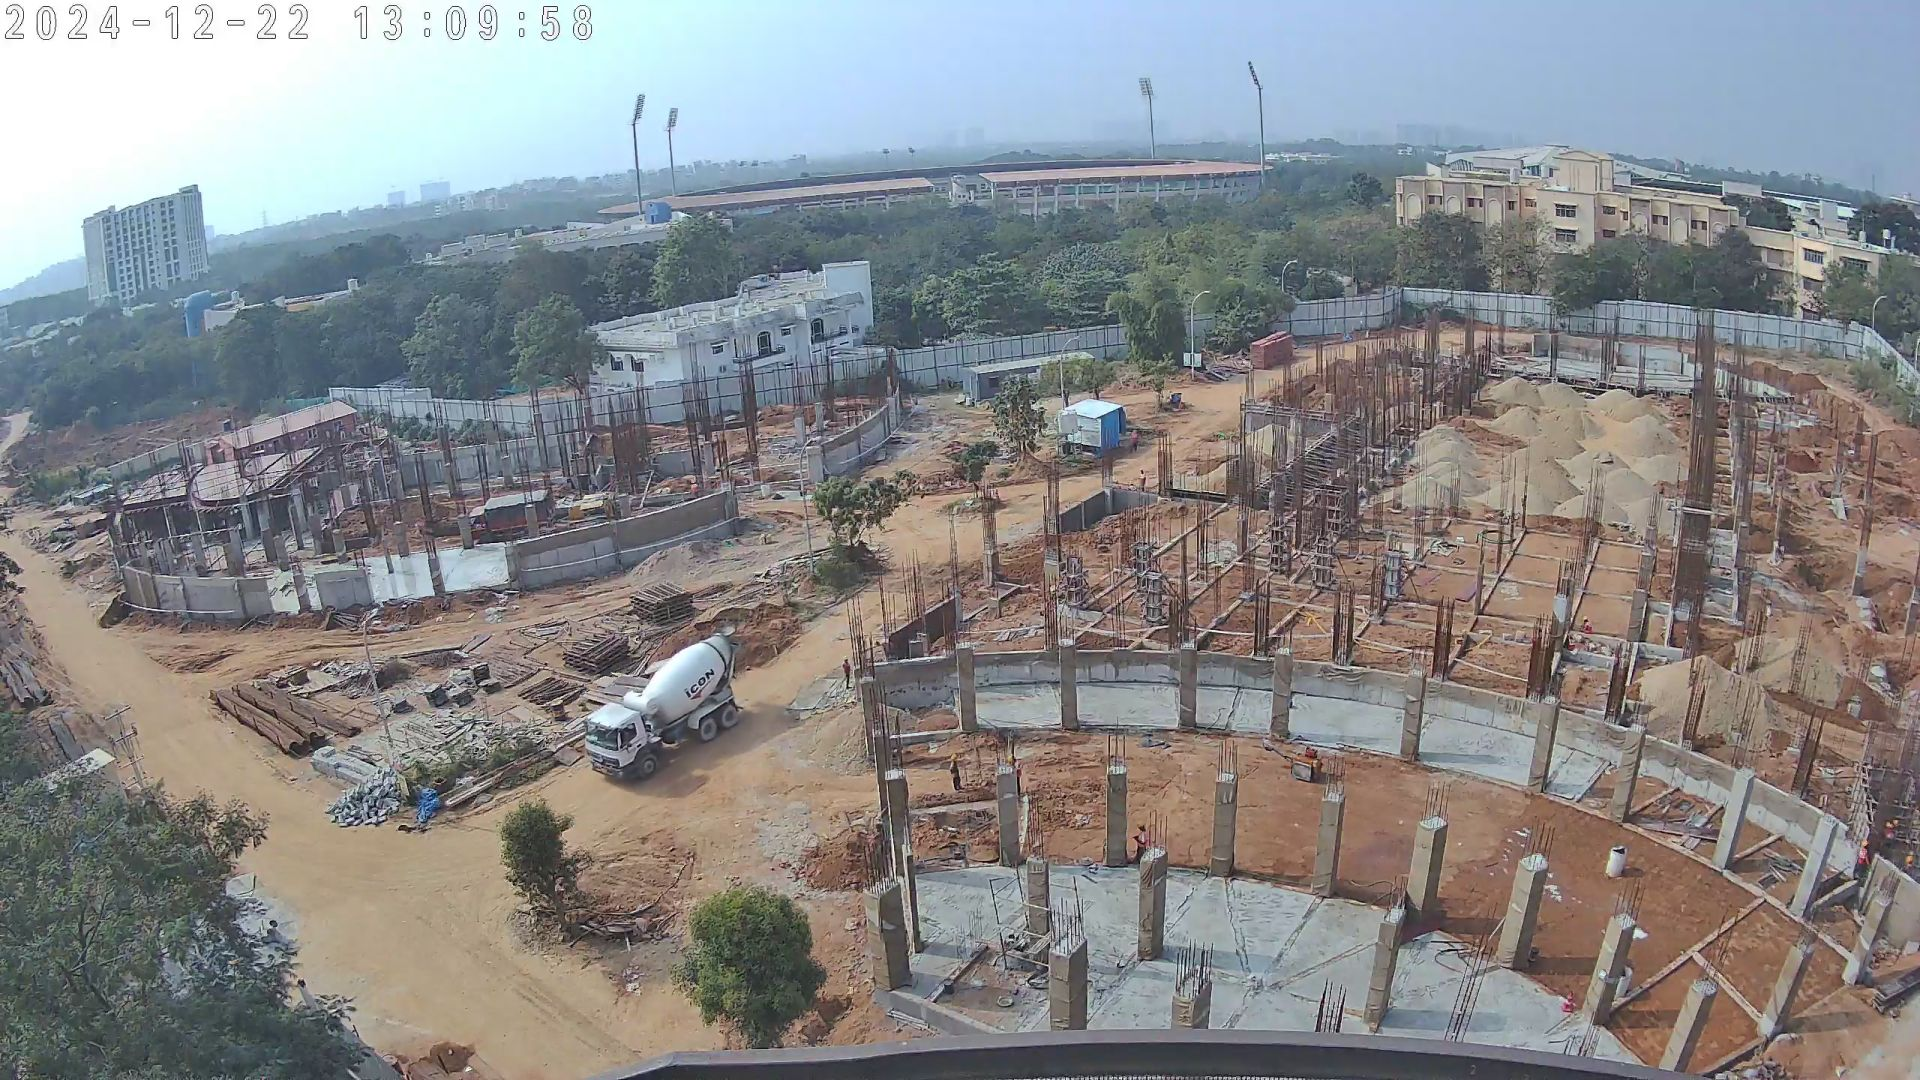truck: (587, 630, 741, 780), (461, 490, 557, 540)
worker: (1129, 821, 1150, 866), (946, 750, 966, 796), (1857, 837, 1874, 890), (1880, 816, 1894, 863), (839, 655, 855, 690), (1903, 850, 1917, 883), (1128, 424, 1142, 453), (1579, 611, 1590, 641), (1138, 465, 1149, 494)
